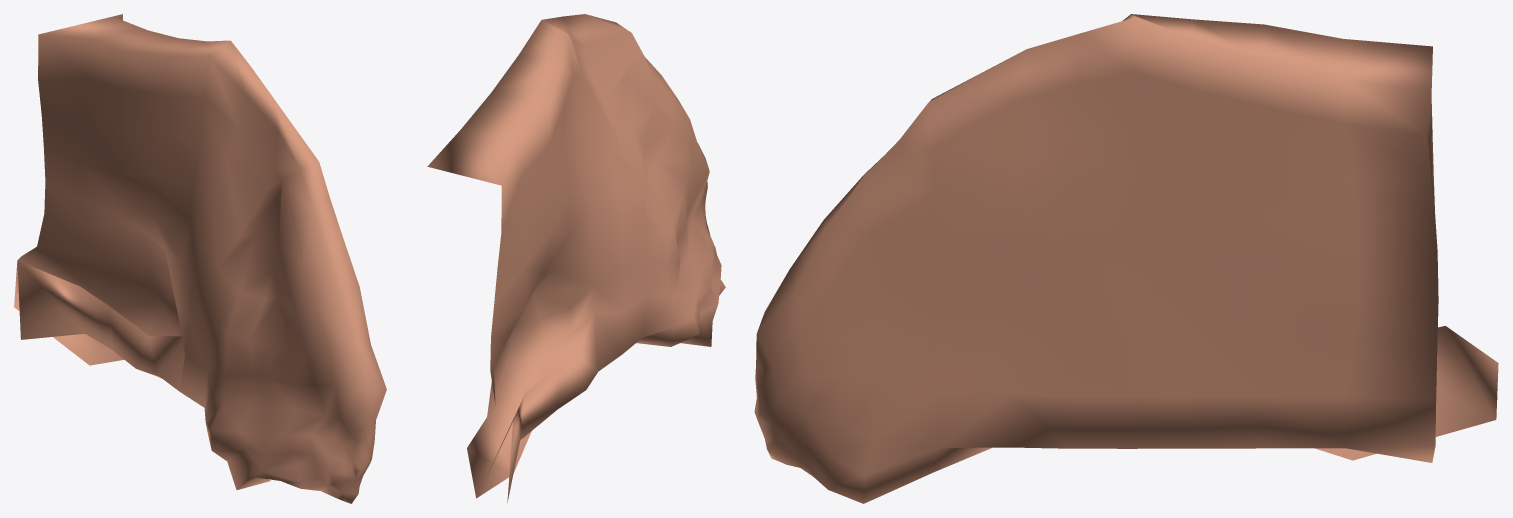
Rendered from mucosa-of-nasal-cavity.glb.
3 renders of one model, left to right at view 1: azimuth 30°, elevation 25°; view 2: azimuth 150°, elevation 25°; view 3: azimuth 270°, elevation 25°, orthographic. The views are drawn at different scales.
Parts seen in each view (by area): view 1: Mucosa of nasal cavity; view 2: Mucosa of nasal cavity; view 3: Mucosa of nasal cavity.
Boxes of the visible parts, x1,y1,x2,y2 form: Mucosa of nasal cavity: (14, 14, 386, 503); Mucosa of nasal cavity: (427, 14, 725, 502); Mucosa of nasal cavity: (754, 14, 1498, 503).
Size of the model in its own units: 0.014 by 0.0496 by 0.0691.
